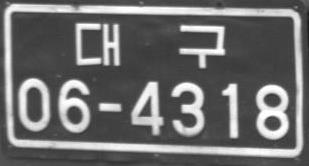0: (17, 77, 50, 132)
1: (216, 83, 249, 140)
3: (171, 79, 204, 137)
4: (131, 80, 164, 135)
6: (57, 79, 91, 133)
8: (255, 82, 290, 140)
대구_D: (75, 22, 225, 70)
